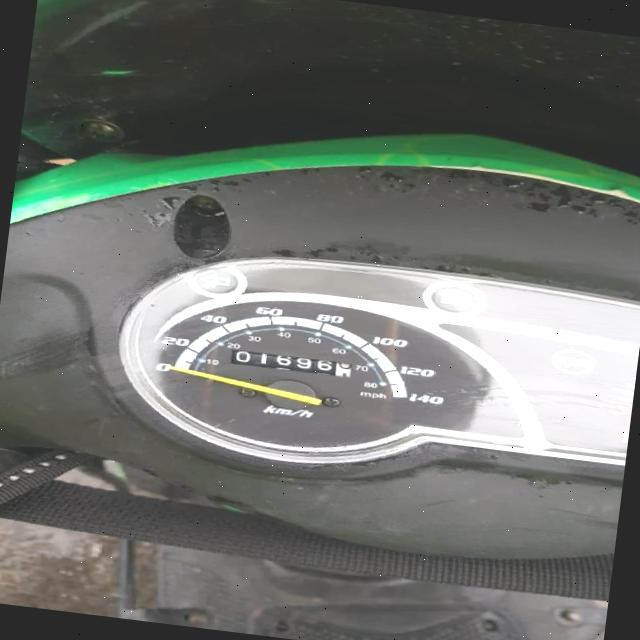odometer: (228, 348, 354, 378)
